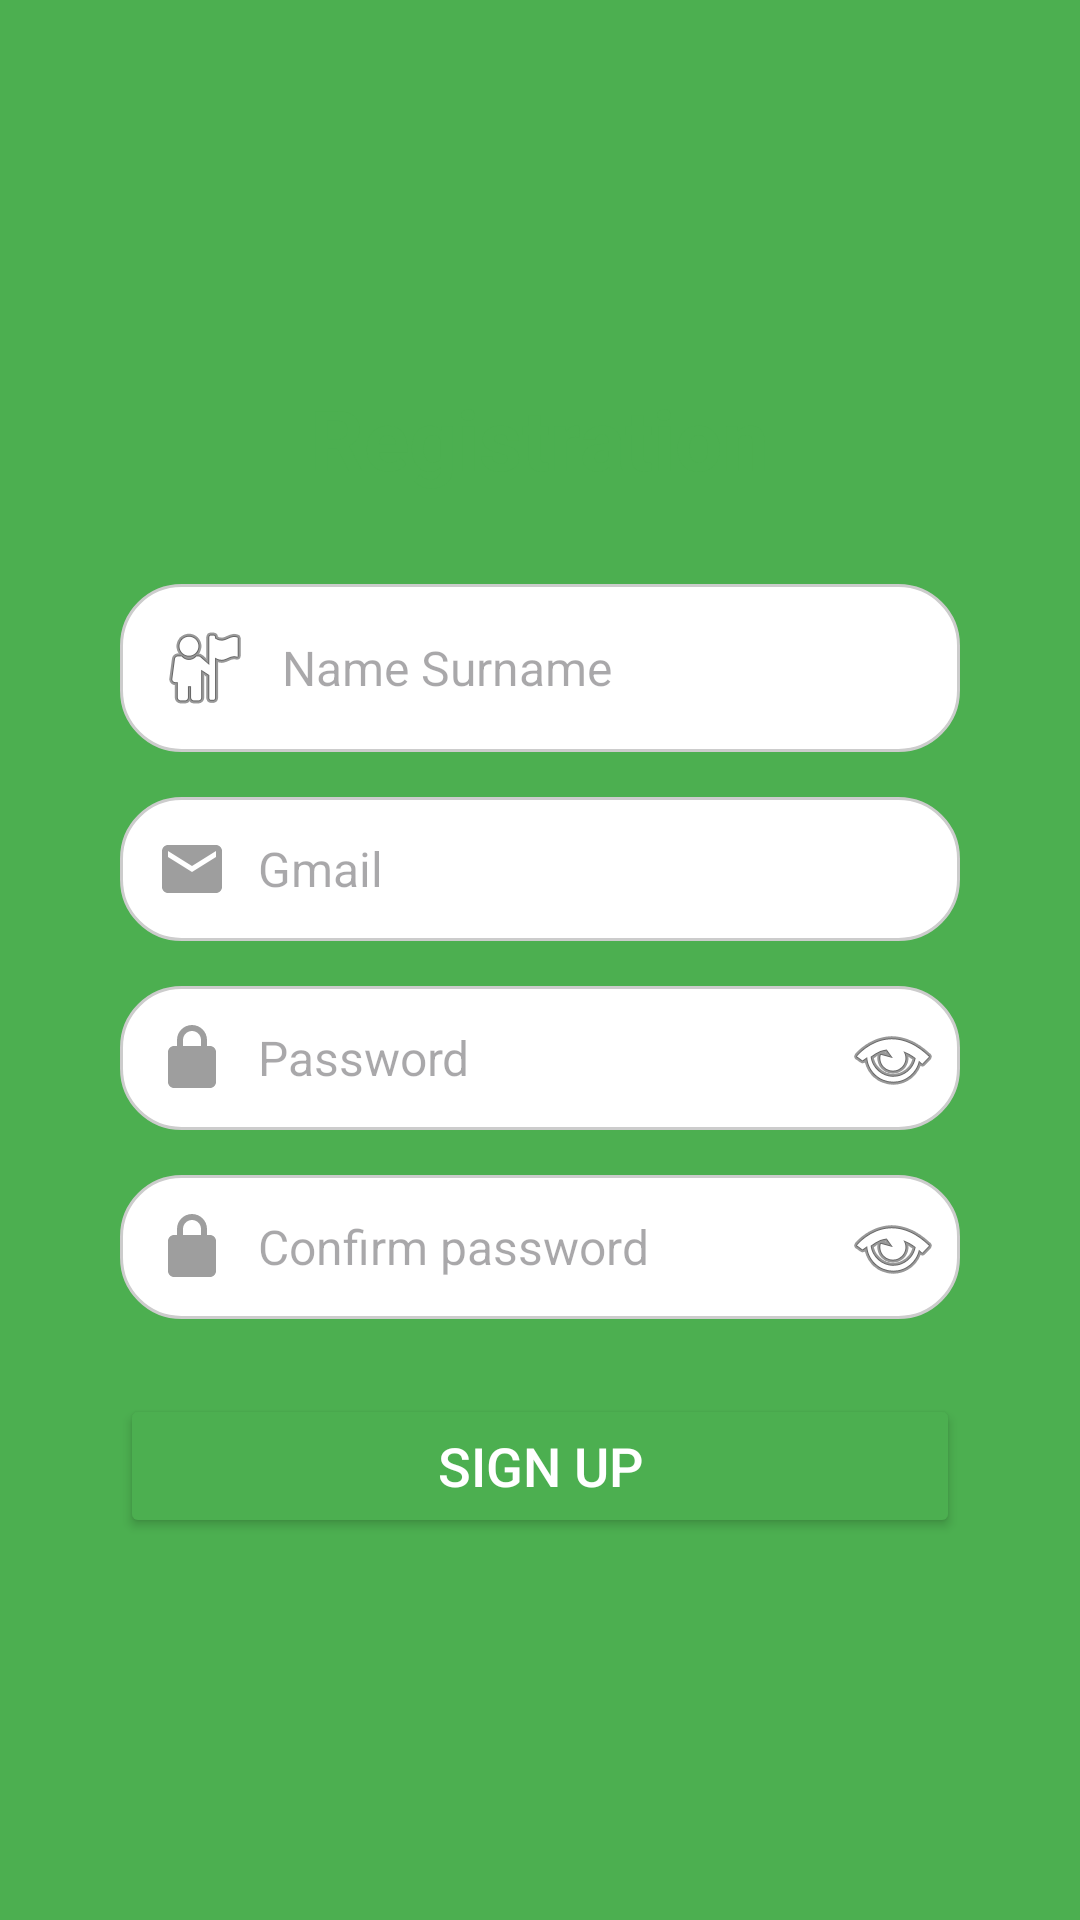

Icons on this 1080x1920 Android screen, each with its box as (x1, y1, x2, y2):
view: (825, 986, 960, 1130), (825, 1175, 960, 1319)
